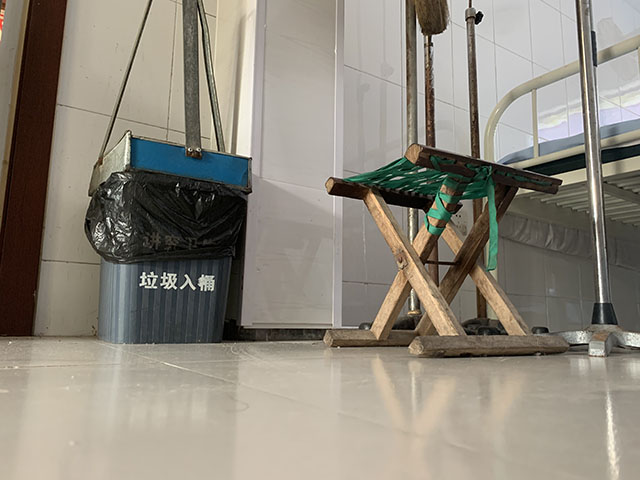bed: (482, 33, 640, 321)
stool: (322, 141, 571, 358)
trashcan: (83, 169, 248, 344)
